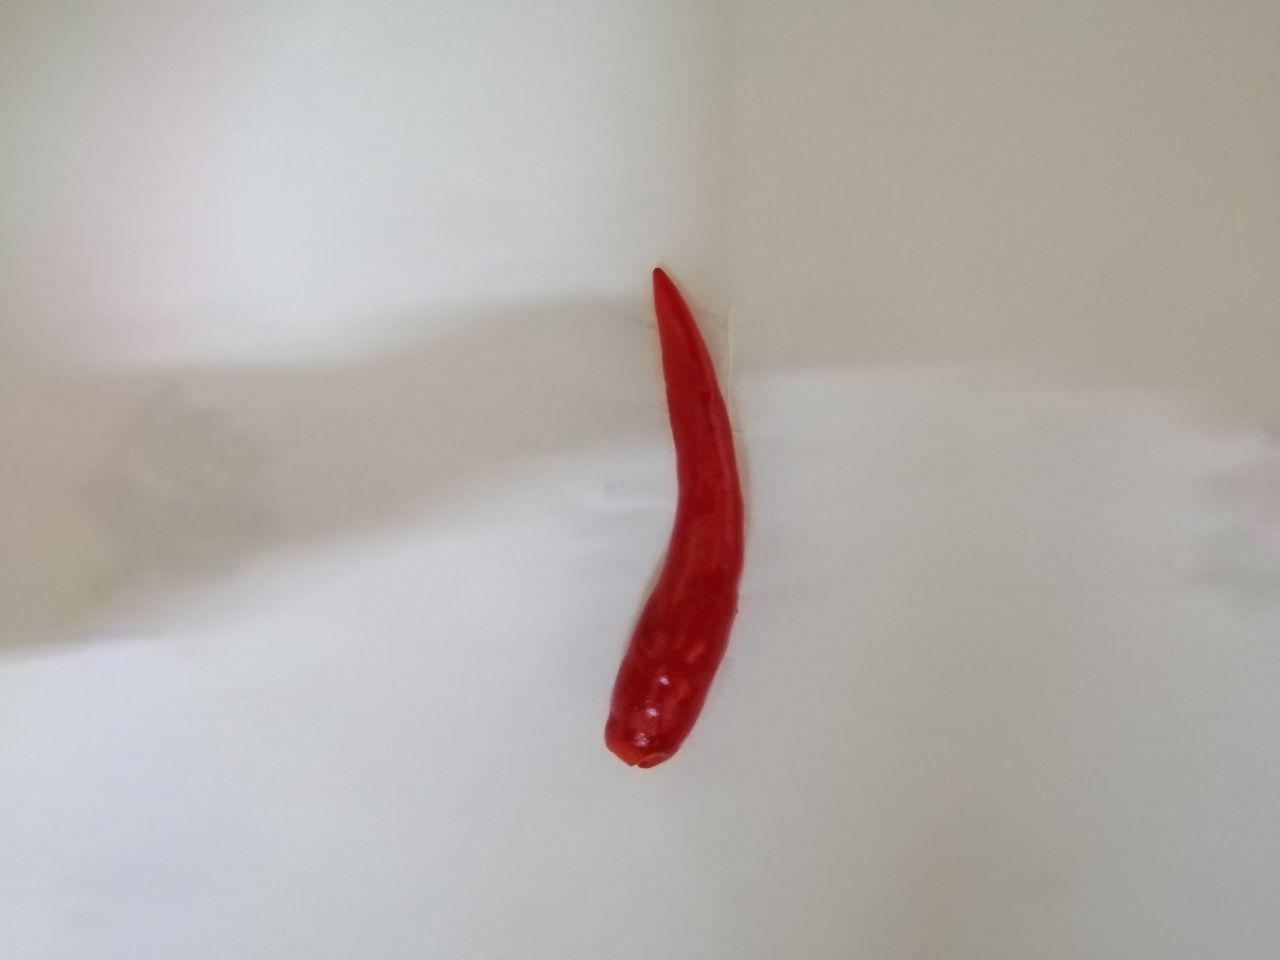lada merah: (572, 250, 775, 792)
